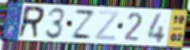2: (123, 12, 144, 43)
3: (45, 6, 66, 40)
4: (146, 12, 166, 44)
R: (16, 5, 47, 40)
Z: (69, 9, 96, 41), (93, 10, 120, 42)
